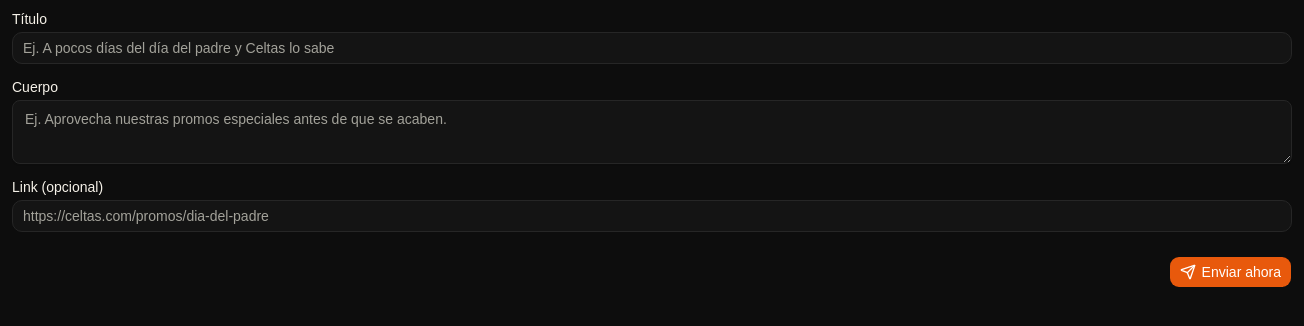
Test case: BroadcastForm › link inválido muestra error y no pasa a confirmación
Type "Título" into the field labelled "Título" at coordinates (652, 48), box [12,32,1292,64]
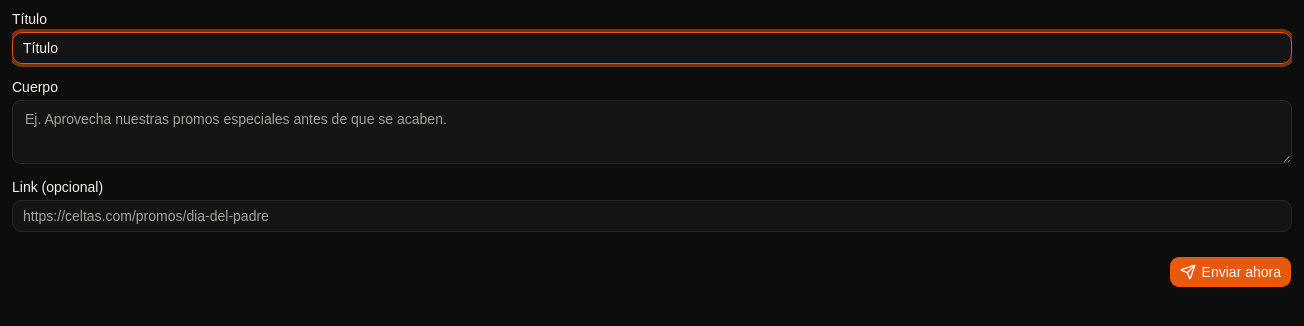
Type "Cuerpo" into the text box labelled "Cuerpo" at coordinates (652, 132), box [12,100,1292,164]
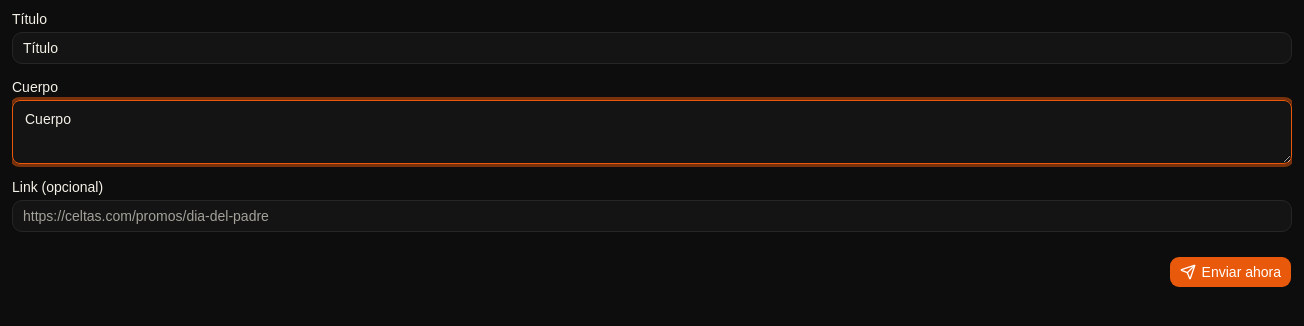
Type "texto random" into the field labelled "Link (opcional)" at coordinates (652, 216), box [12,200,1292,232]
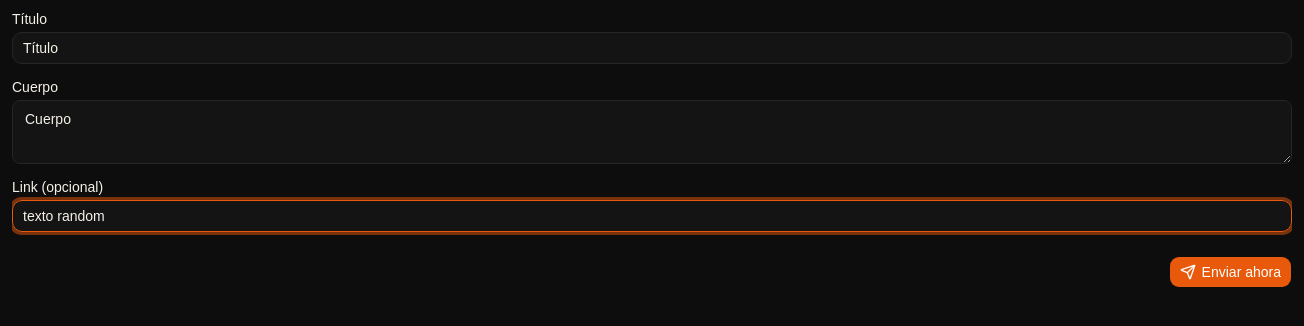
Click the button "Enviar ahora" at coordinates (1230, 272), box [1169,256,1292,288]
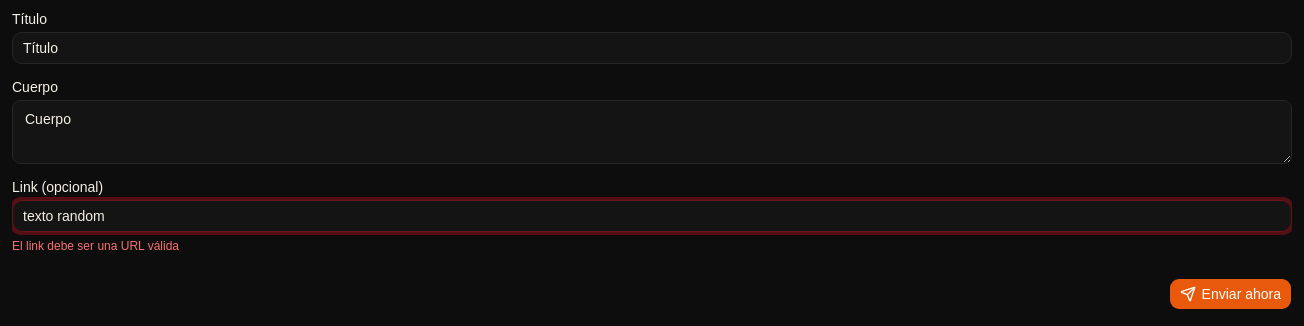
Expected: the text "El link debe ser una URL válida" is shown, [12,239,179,253]
